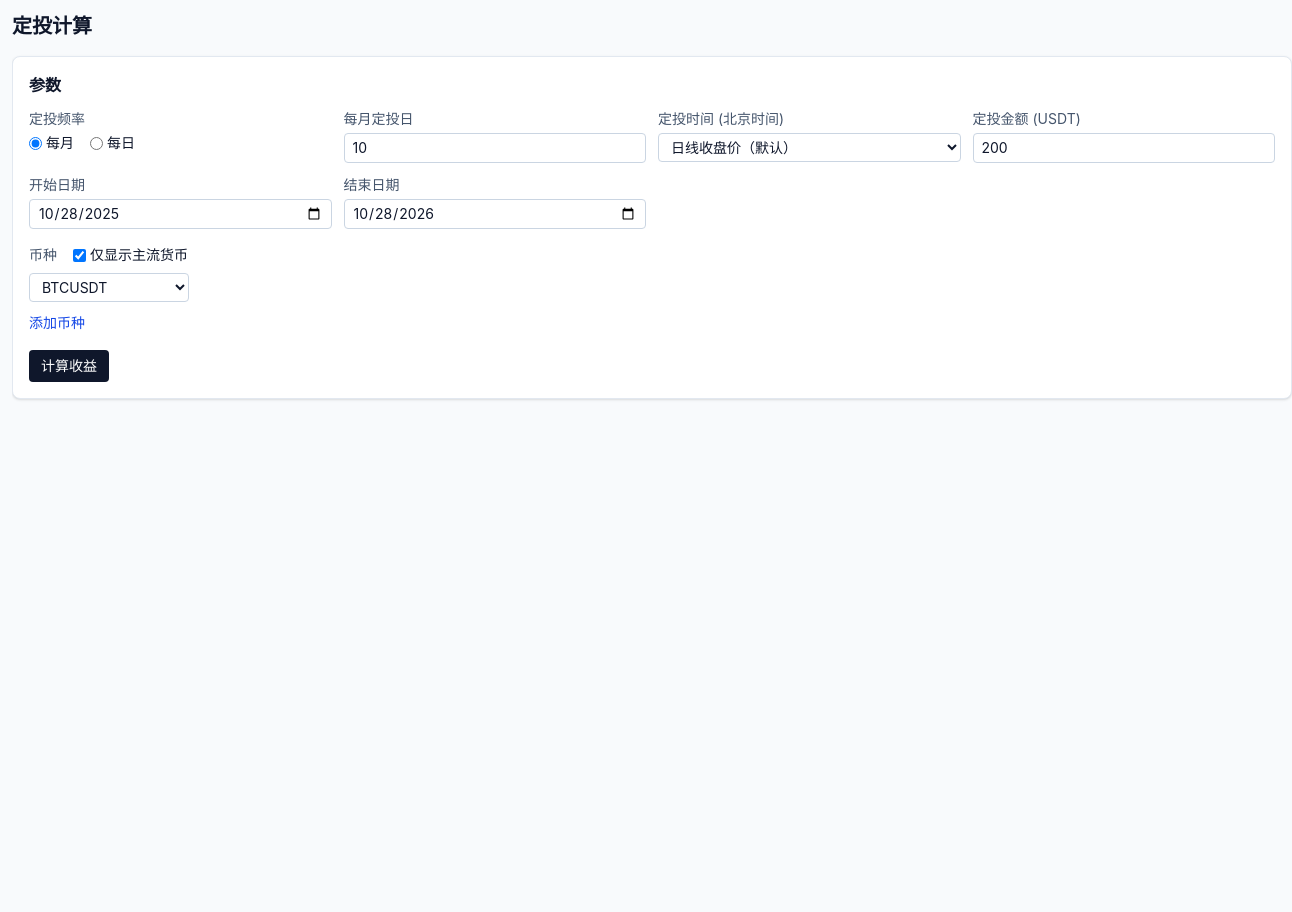
it: DcaPage › sends a monthly single-symbol plan by default and renders the summary
Click the button "计算收益": (69, 366) [29,350,109,382]
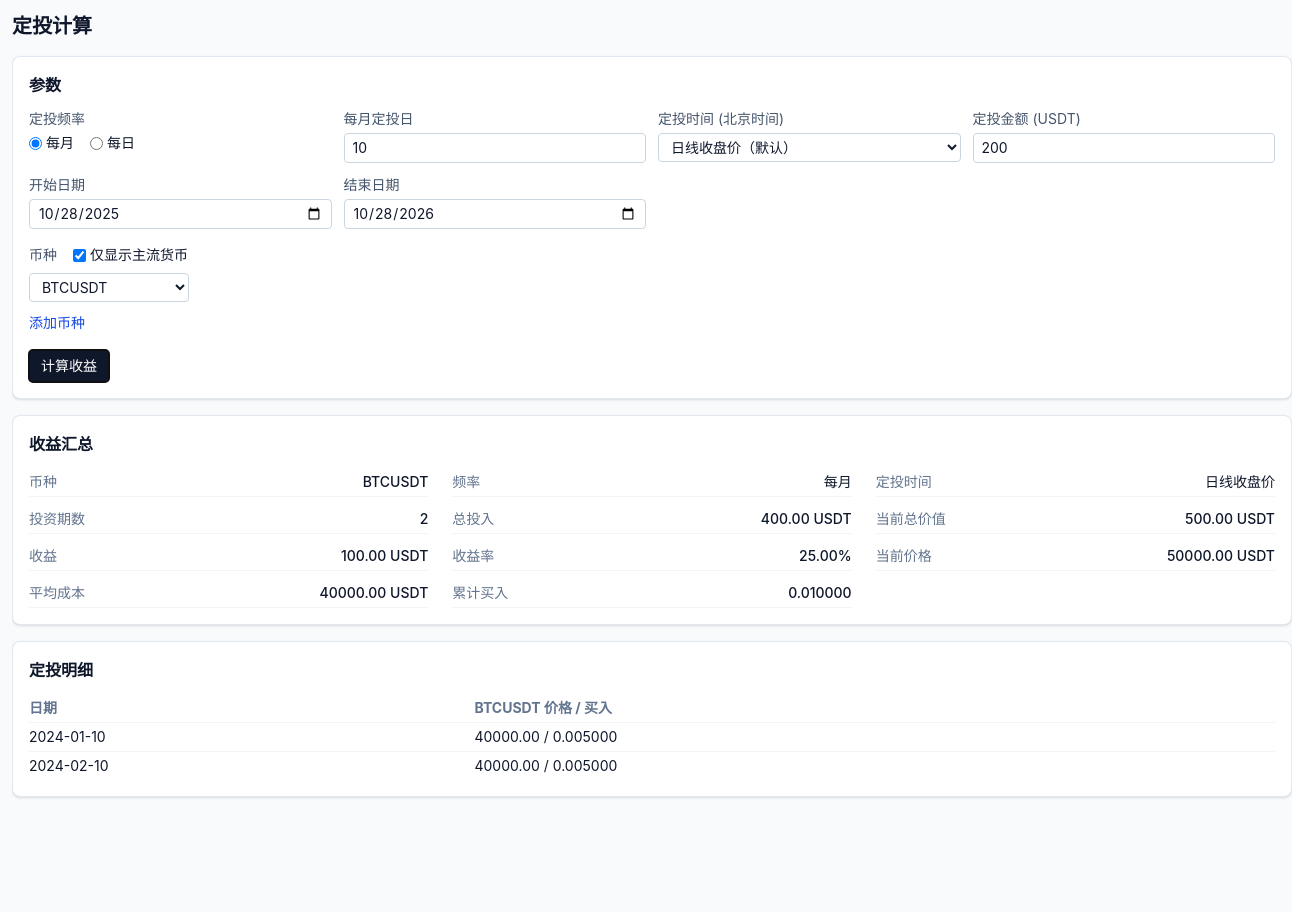
Expected: the text "25.00%" is shown, [799,546,852,566]
Expected: the text "2024-01-10" is shown, [29,722,474,752]
